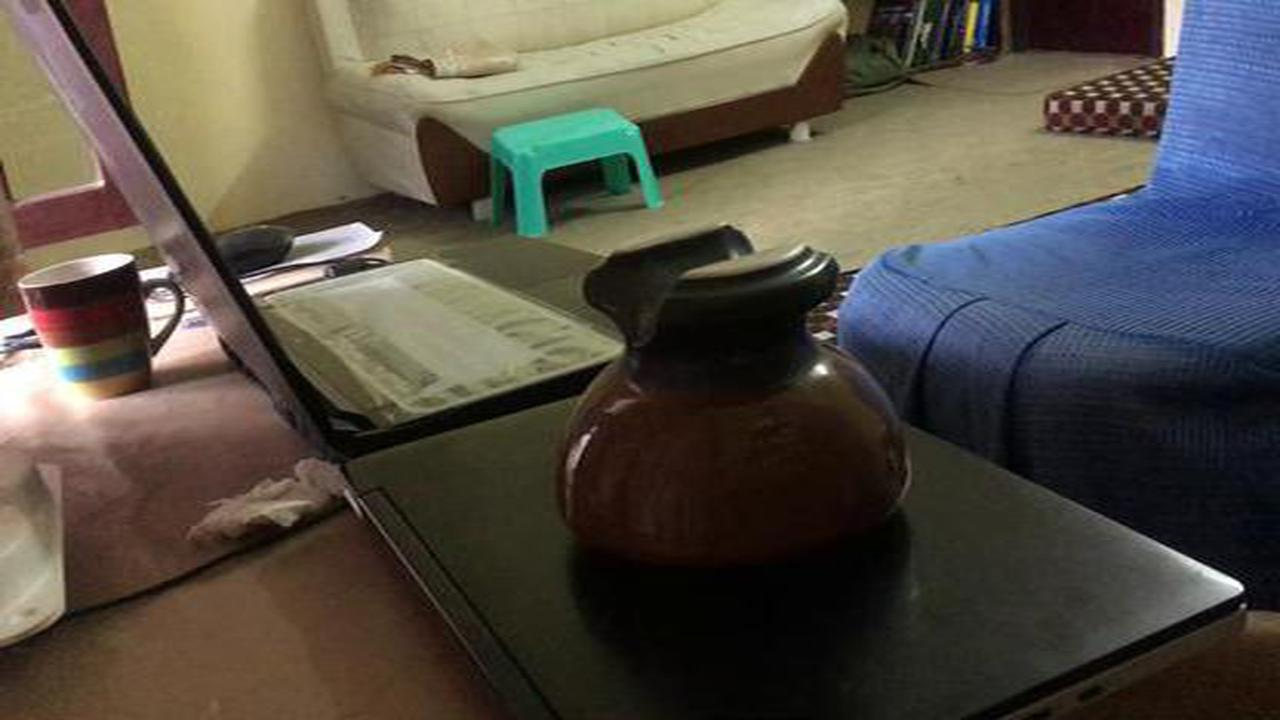insulator_pin: (530, 216, 921, 591)
